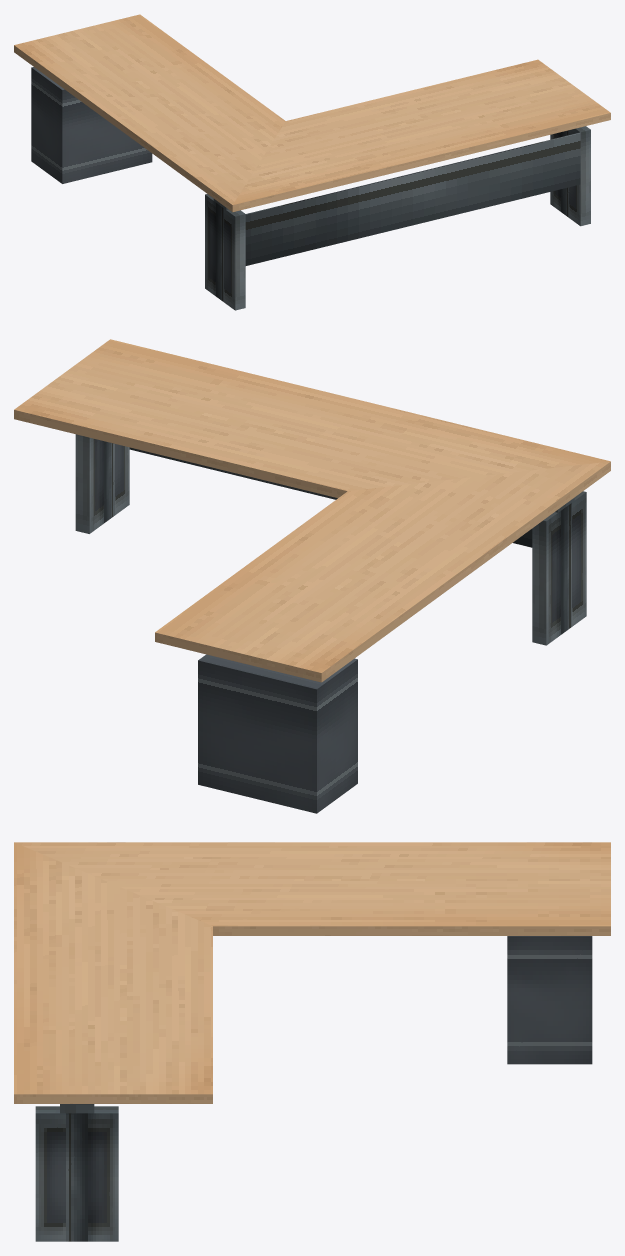
The model's file is workstation.fbx.
The picture shows the model from 3 angles, top to bottom: view 1: azimuth 30°, elevation 25°; view 2: azimuth 150°, elevation 25°; view 3: azimuth 270°, elevation 25°; orthographic projection. The views are drawn at different scales.
Visible parts, largest first — view 1: workstation; view 2: workstation; view 3: workstation.
Part boxes in pixels (<box>): workstation: <box>14,14,610,310</box>; workstation: <box>14,339,610,813</box>; workstation: <box>14,842,610,1241</box>.
Size of the model in its own units: 247 by 70.92 by 247.
